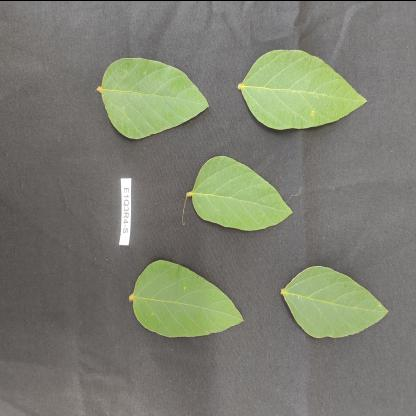label: (108, 172, 138, 248)
leaflets: (237, 30, 378, 140), (85, 53, 212, 151), (119, 256, 260, 344), (180, 151, 304, 239), (274, 257, 392, 349)
